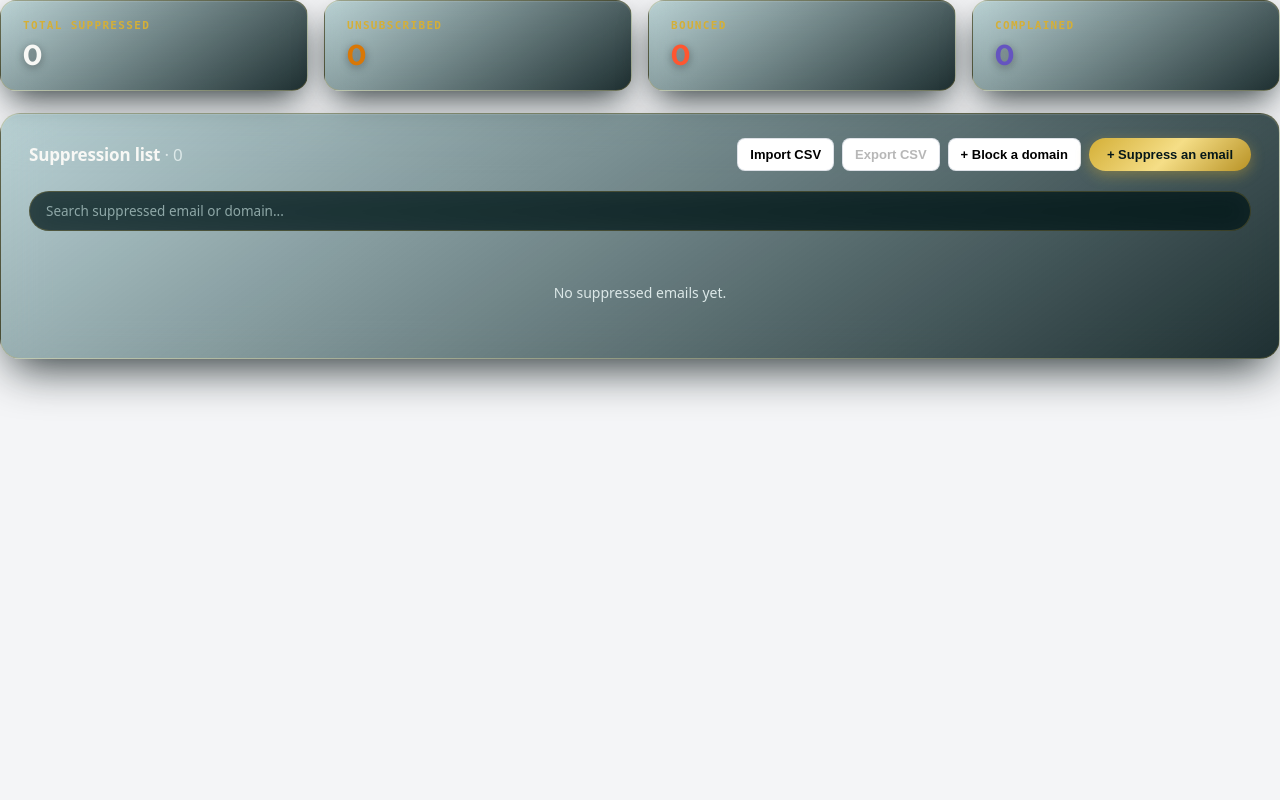
Test: SuppressionPage › suppresses an email via the add form
Check: the text "No suppressed emails yet." is shown, box [554, 283, 726, 302]
Step 1. Click the button "+ Suppress an email" → [1170, 154], box [1089, 138, 1251, 171]
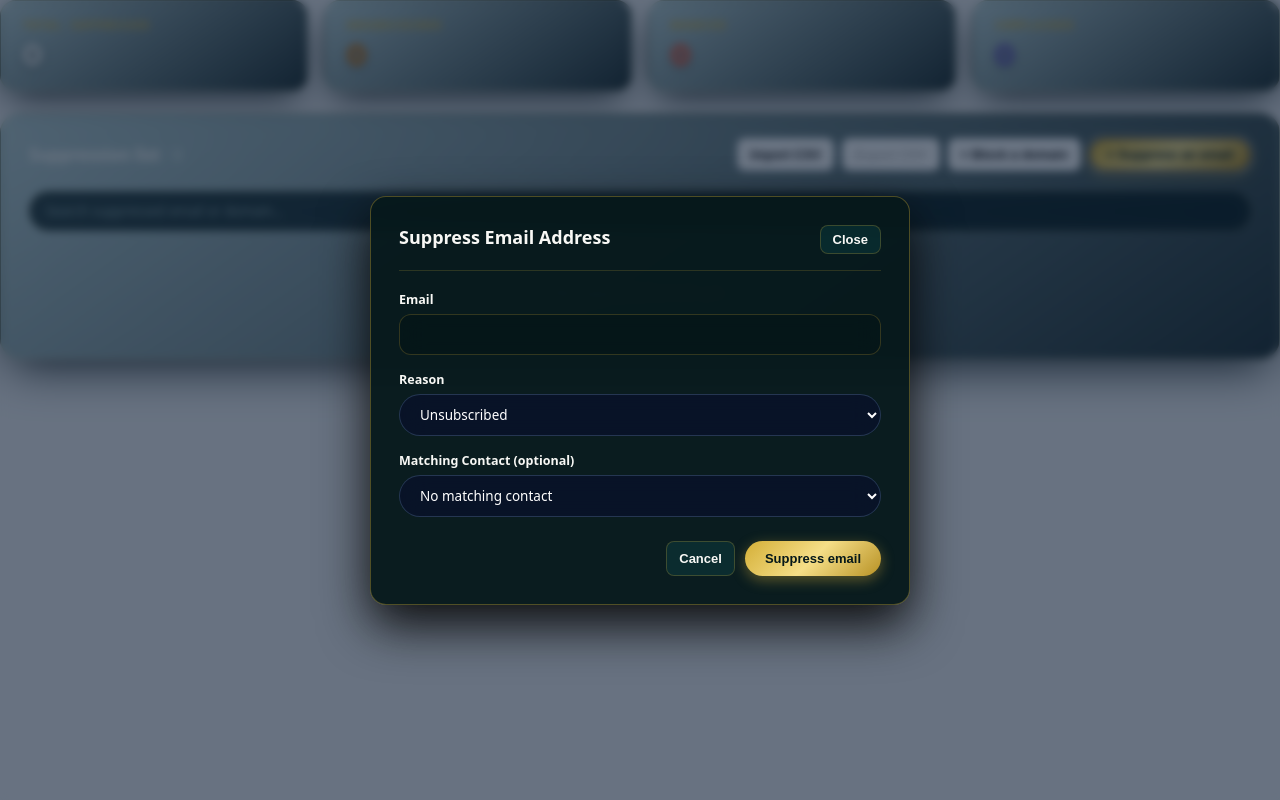
Step 2. Type "new@example.com" into the field labelled "Email" → [640, 334], box [399, 314, 881, 354]
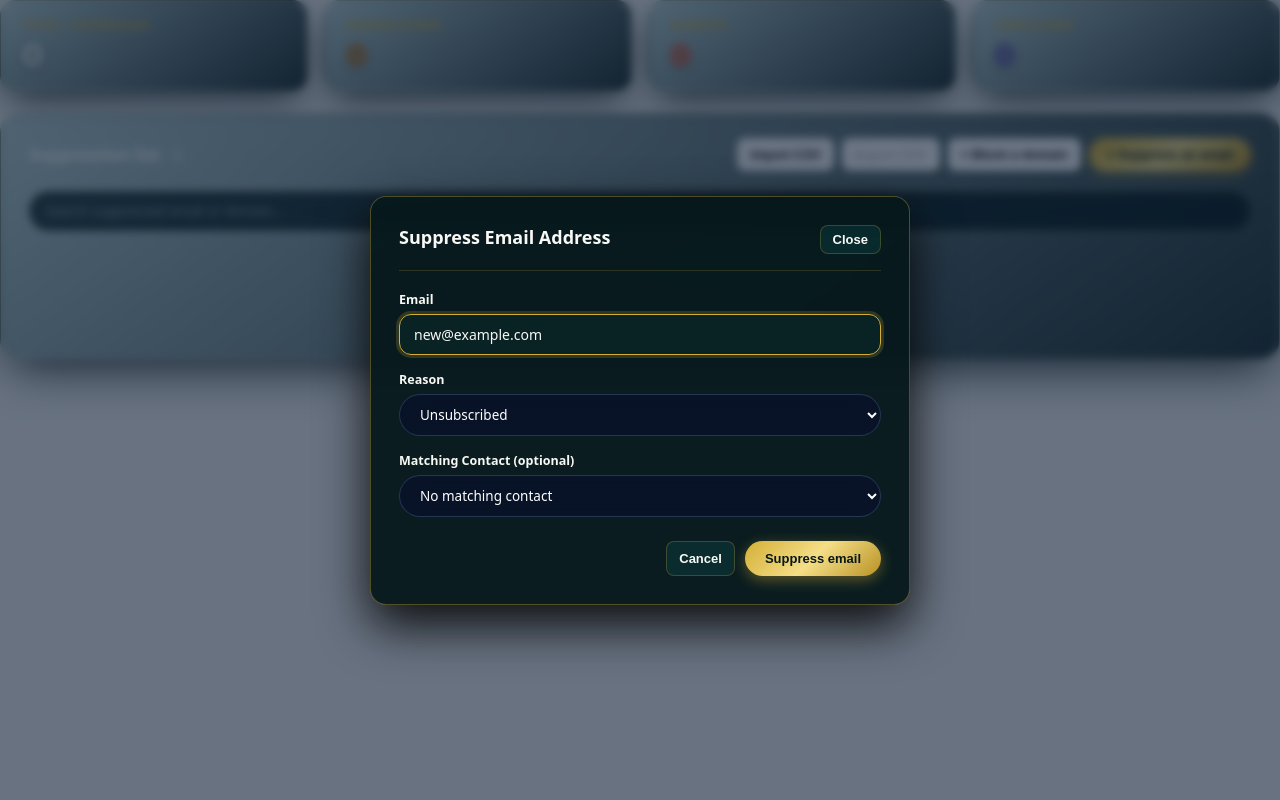
Step 3. Select "Manual" in the dropdown labelled "Reason" → [640, 414], box [399, 394, 881, 436]
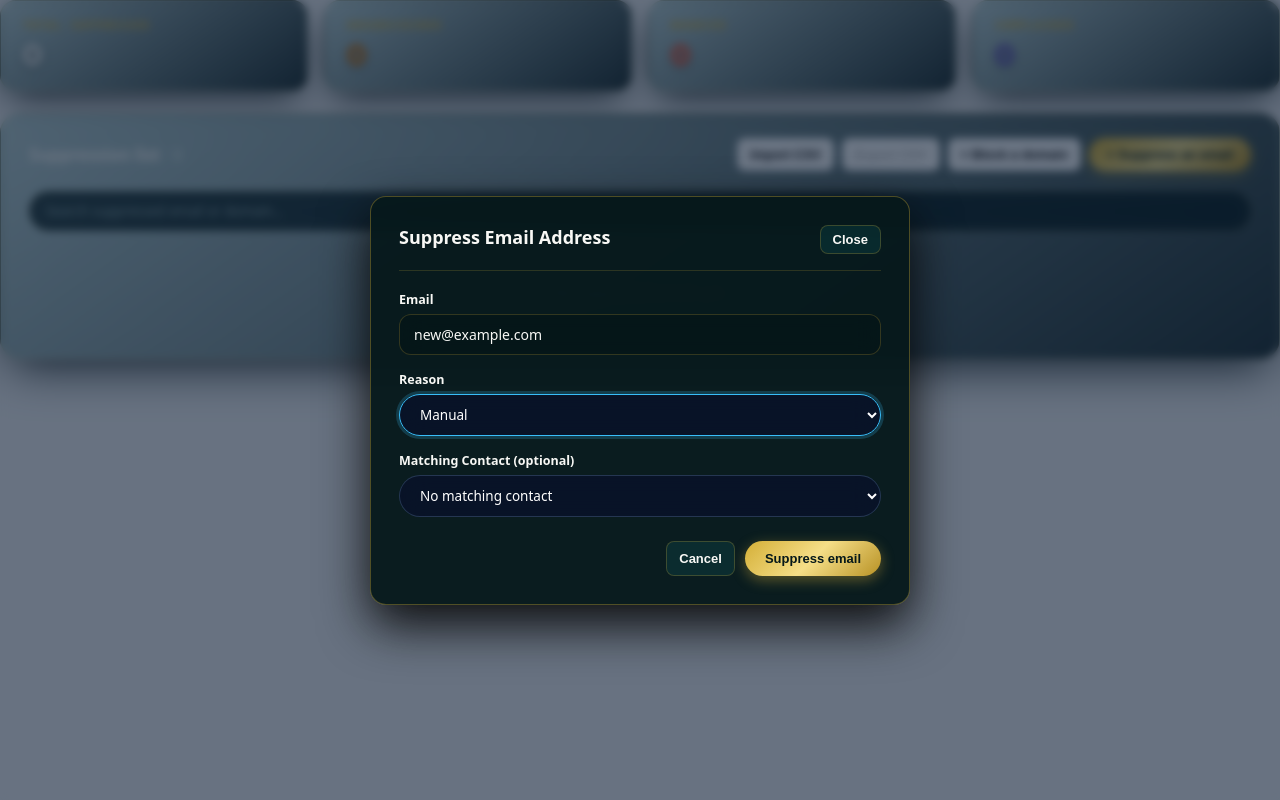
Step 4. Click the button "Suppress email" → [813, 558], box [745, 540, 881, 576]
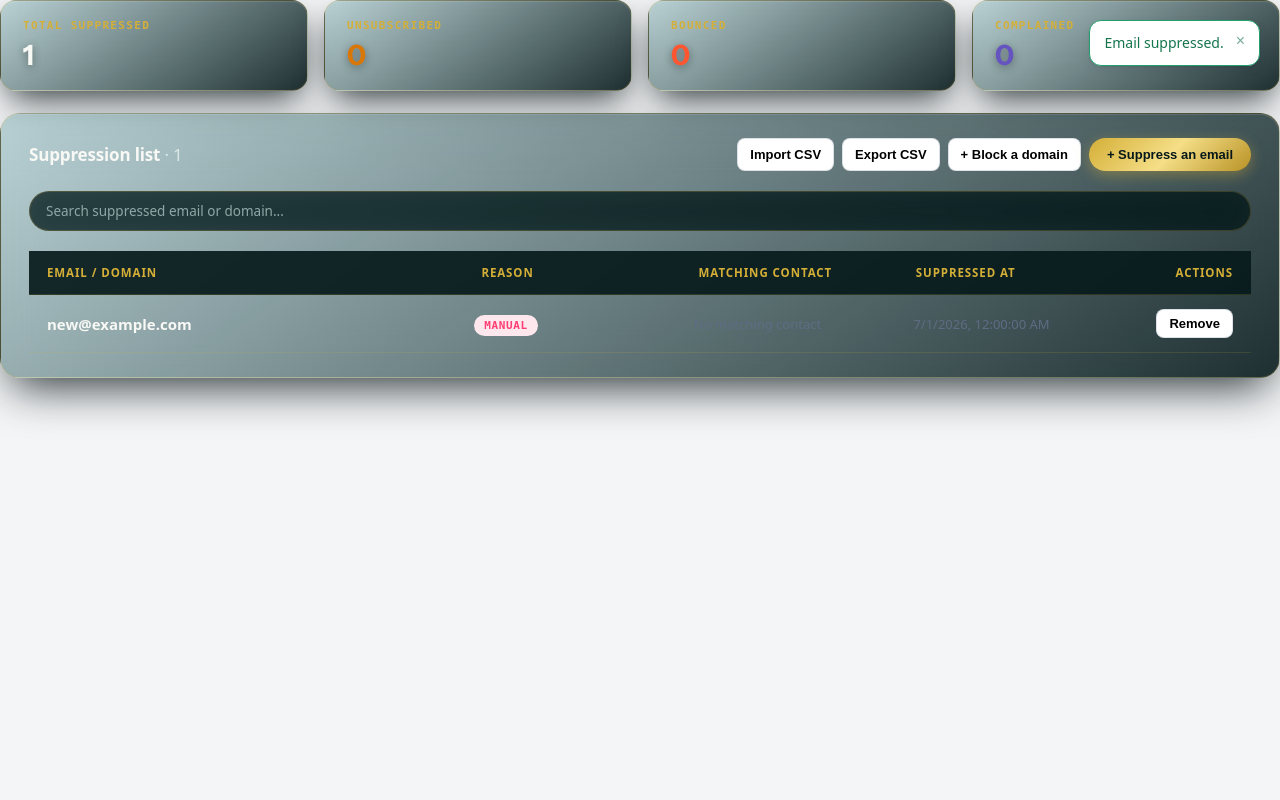
Check: the text "new@example.com" is shown, box [47, 314, 192, 334]
